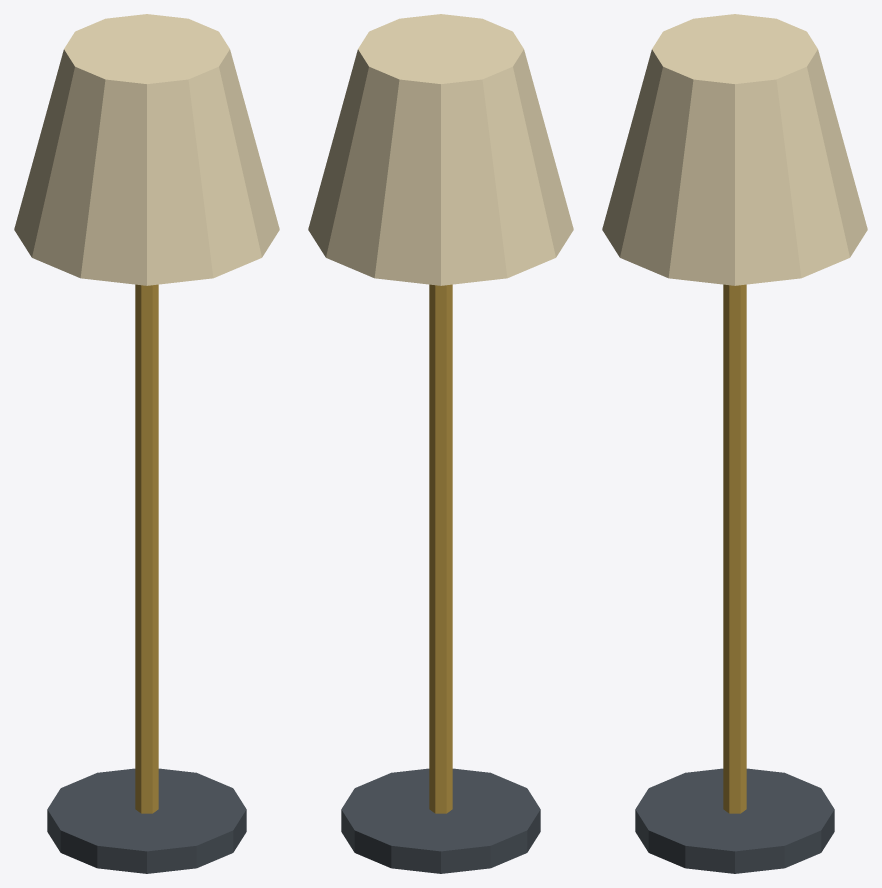
The model's file is FUR_Lamp_Frac.fbx.
The picture shows the model from 3 angles, left to right: view 1: azimuth 30°, elevation 25°; view 2: azimuth 150°, elevation 25°; view 3: azimuth 270°, elevation 25°; orthographic projection.
Parts seen in each view (by area): view 1: FUR_Lamp_Frac_3, FUR_Lamp_Frac_1, FUR_Lamp_Frac_4, FUR_Lamp_Frac_2; view 2: FUR_Lamp_Frac_3, FUR_Lamp_Frac_4, FUR_Lamp_Frac_2, FUR_Lamp_Frac_1; view 3: FUR_Lamp_Frac_3, FUR_Lamp_Frac_4, FUR_Lamp_Frac_1, FUR_Lamp_Frac_2.
Part boxes in pixels (x1,y1,x2,y2): FUR_Lamp_Frac_3: [27, 14, 266, 213]; FUR_Lamp_Frac_1: [64, 162, 279, 524]; FUR_Lamp_Frac_4: [47, 653, 246, 873]; FUR_Lamp_Frac_2: [14, 182, 158, 668]; FUR_Lamp_Frac_3: [308, 14, 553, 285]; FUR_Lamp_Frac_4: [341, 656, 540, 873]; FUR_Lamp_Frac_2: [429, 188, 573, 671]; FUR_Lamp_Frac_1: [429, 156, 565, 521]; FUR_Lamp_Frac_3: [631, 14, 867, 285]; FUR_Lamp_Frac_4: [635, 657, 834, 873]; FUR_Lamp_Frac_1: [602, 124, 746, 529]; FUR_Lamp_Frac_2: [723, 493, 746, 662].
Size of the model in its own units: 1.6 by 5.2 by 1.6.
